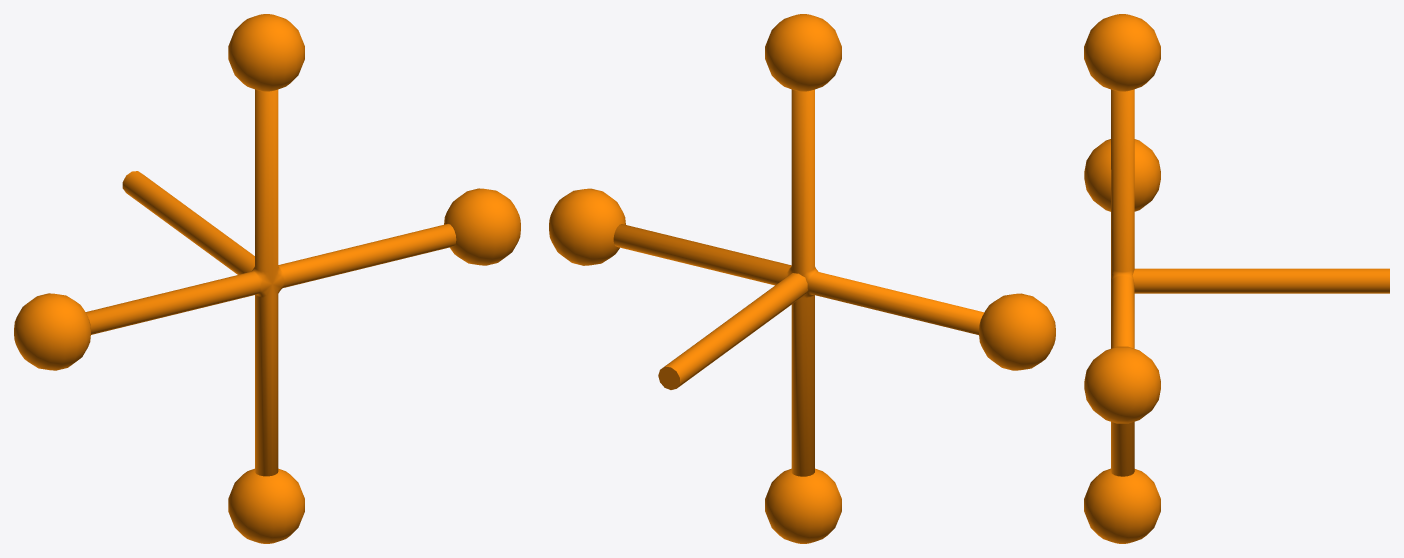
Rendered from SM_BoulierNonInteractible.fbx.
3 views of the same model, side by side, from view 1: azimuth 30°, elevation 25°; view 2: azimuth 150°, elevation 25°; view 3: azimuth 270°, elevation 25° (orthographic).
Visible parts, largest first — view 1: Croix_l, Sphere_02_l, Sphere_03_l, Sphere_04_l, Sphere_01_l, Cylindre_l; view 2: Croix_l, Sphere_03_l, Sphere_02_l, Sphere_04_l, Sphere_01_l, Cylindre_l; view 3: Croix_l, Cylindre_l, Sphere_03_l, Sphere_01_l, Sphere_04_l, Sphere_02_l.
Part boxes in pixels (x1,y1,x2,y2): Croix_l: [85, 89, 456, 476]; Sphere_02_l: [14, 293, 90, 370]; Sphere_03_l: [228, 14, 304, 91]; Sphere_04_l: [228, 468, 304, 543]; Sphere_01_l: [444, 188, 520, 265]; Cylindre_l: [122, 171, 254, 274]; Croix_l: [613, 89, 984, 476]; Sphere_03_l: [765, 14, 841, 91]; Sphere_02_l: [979, 293, 1055, 370]; Sphere_04_l: [765, 468, 841, 543]; Sphere_01_l: [549, 188, 625, 265]; Cylindre_l: [658, 273, 807, 389]; Croix_l: [1111, 89, 1134, 476]; Cylindre_l: [1132, 268, 1389, 293]; Sphere_03_l: [1084, 14, 1160, 91]; Sphere_01_l: [1084, 346, 1160, 423]; Sphere_04_l: [1084, 468, 1160, 543]; Sphere_02_l: [1084, 139, 1160, 211].
Size of the model in its own units: 73.55 by 73.88 by 39.16.
